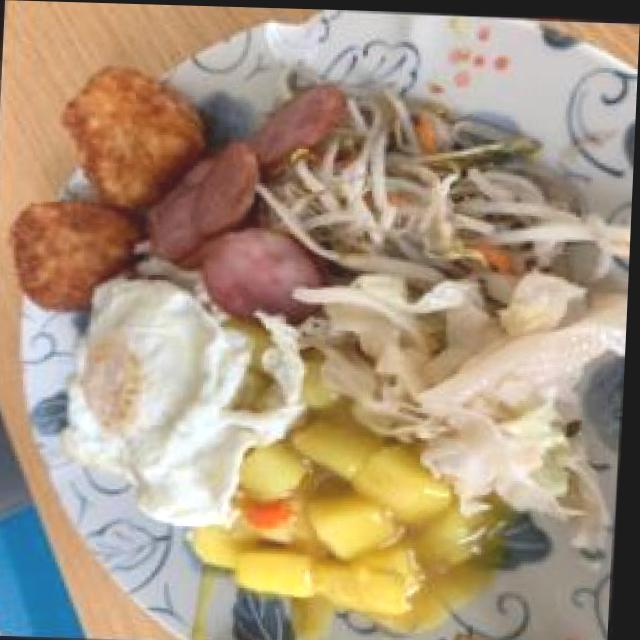chinese_cabbage: (358, 272, 599, 500)
chinese_sausage: (162, 89, 340, 313)
curry: (214, 440, 500, 620)
fried_eggs: (58, 272, 296, 537)
mung_bean_sprouts: (331, 103, 557, 273)
triangle_hash_brown: (9, 60, 213, 320)
